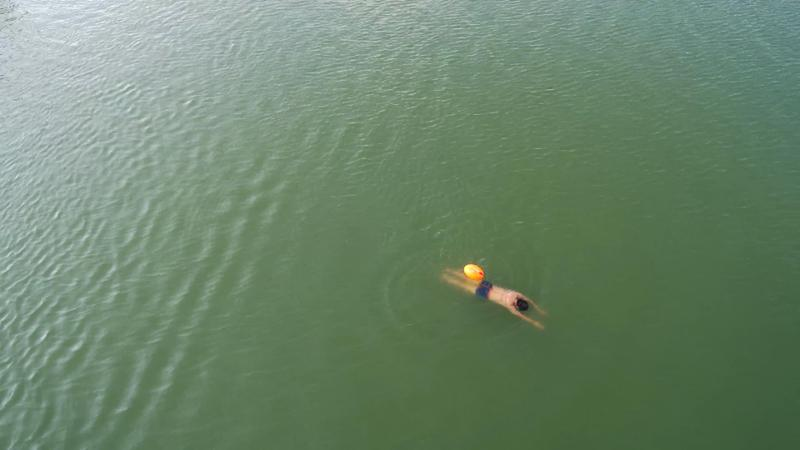swimmers: (441, 268, 548, 330)
